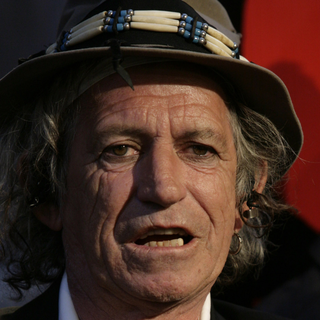eye: (90, 134, 152, 167), (175, 130, 227, 169)
